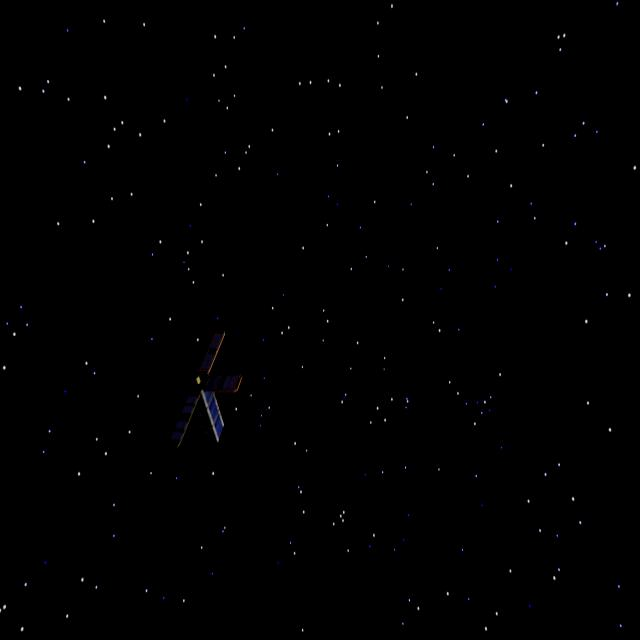satellite: (162, 322, 240, 458)
